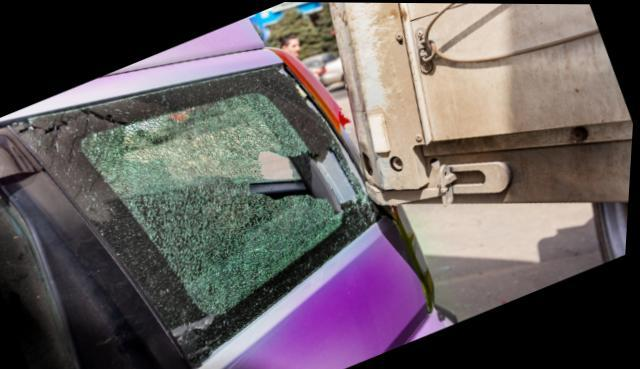glass shatter: (10, 62, 382, 364)
